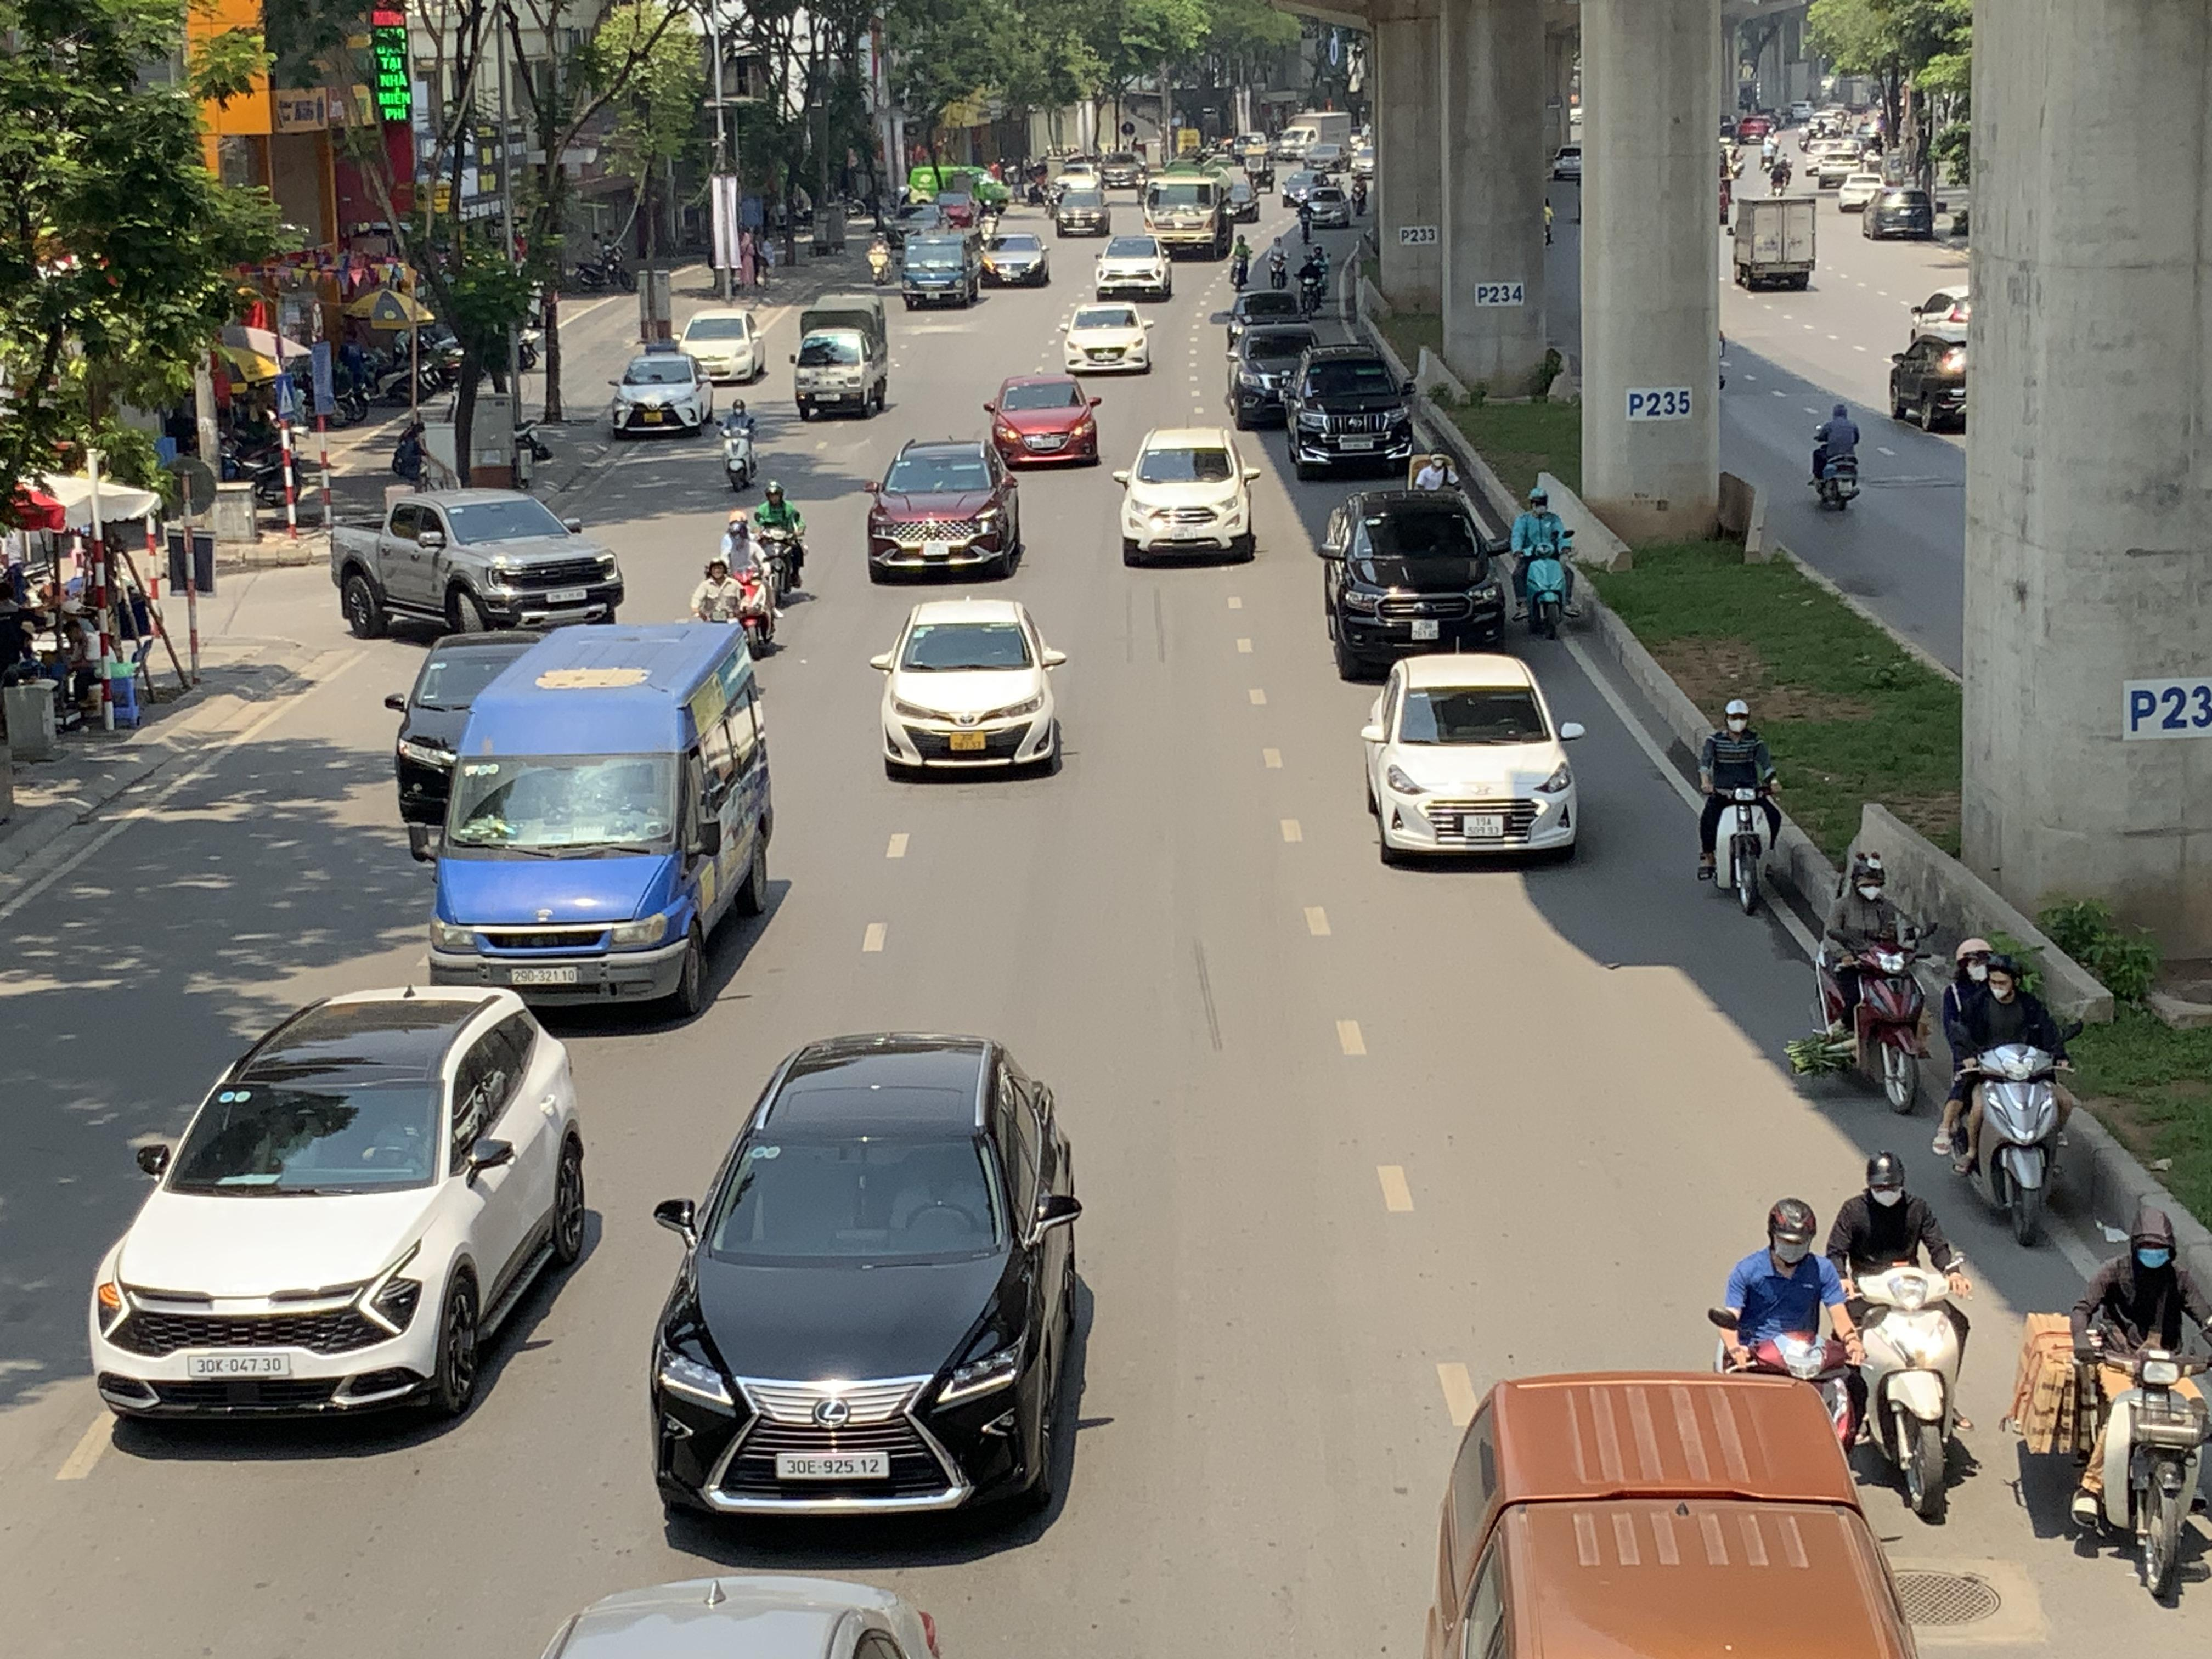BSD: (775, 1452, 888, 1480), (186, 1352, 289, 1378), (510, 967, 577, 985), (547, 587, 587, 603)
BSV: (1463, 814, 1503, 838), (949, 732, 986, 751), (1411, 619, 1440, 640)
bus: (423, 619, 777, 1019)
car: (643, 1032, 1097, 1539), (89, 983, 597, 1431), (423, 1574, 1012, 1659), (1359, 652, 1587, 868), (331, 484, 625, 638), (1317, 486, 1508, 680), (383, 629, 547, 854), (871, 598, 1066, 781), (864, 439, 1024, 584), (1113, 425, 1261, 565), (1284, 345, 1418, 479), (982, 371, 1103, 467), (1226, 321, 1325, 429), (608, 350, 714, 436), (1888, 321, 1966, 434), (676, 307, 766, 385), (899, 230, 984, 310), (1061, 301, 1153, 375), (1094, 234, 1174, 300), (1862, 185, 1939, 242), (982, 232, 1050, 288), (1054, 188, 1111, 237)
motorbike: (2066, 1206, 2212, 1610), (1829, 1152, 1979, 1527), (1939, 945, 2076, 1249), (1709, 1195, 1869, 1448), (1808, 849, 1933, 1115), (1693, 699, 1785, 915), (1508, 486, 1581, 640), (726, 523, 782, 657), (751, 481, 810, 603), (1808, 399, 1862, 512), (688, 558, 745, 634), (718, 396, 759, 493), (1296, 247, 1329, 317), (1228, 232, 1252, 293), (1266, 244, 1291, 295)
truck: (791, 293, 892, 420), (1139, 155, 1237, 261), (1728, 192, 1818, 291)
